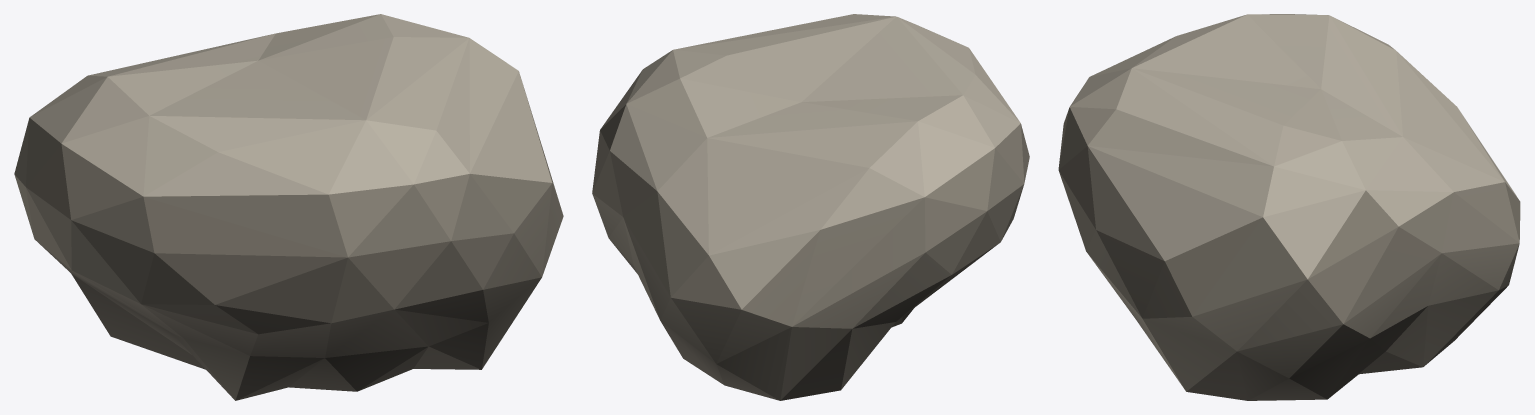
Rendered from rock_large_a.glb.
The picture shows the model from 3 angles, left to right: view 1: azimuth 30°, elevation 25°; view 2: azimuth 150°, elevation 25°; view 3: azimuth 270°, elevation 25°; orthographic projection. The views are drawn at different scales.
Visible parts, largest first — view 1: Body; view 2: Body; view 3: Body.
Part boxes in pixels (x1=…): Body: x1=14, y1=14, x2=563, y2=400; Body: x1=592, y1=14, x2=1029, y2=400; Body: x1=1058, y1=14, x2=1520, y2=400.
Bounding box in the file's own units: 1.94 × 1.2 × 1.9.
1 material, 1 textured.
